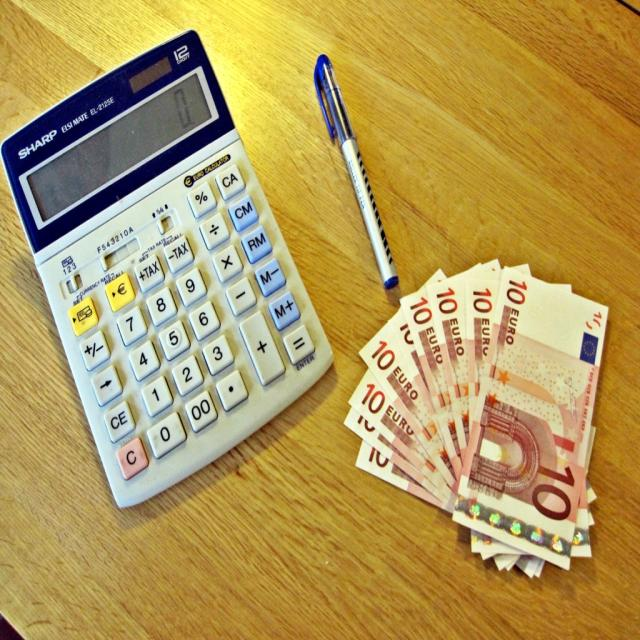Calculator: (0, 24, 337, 511)
